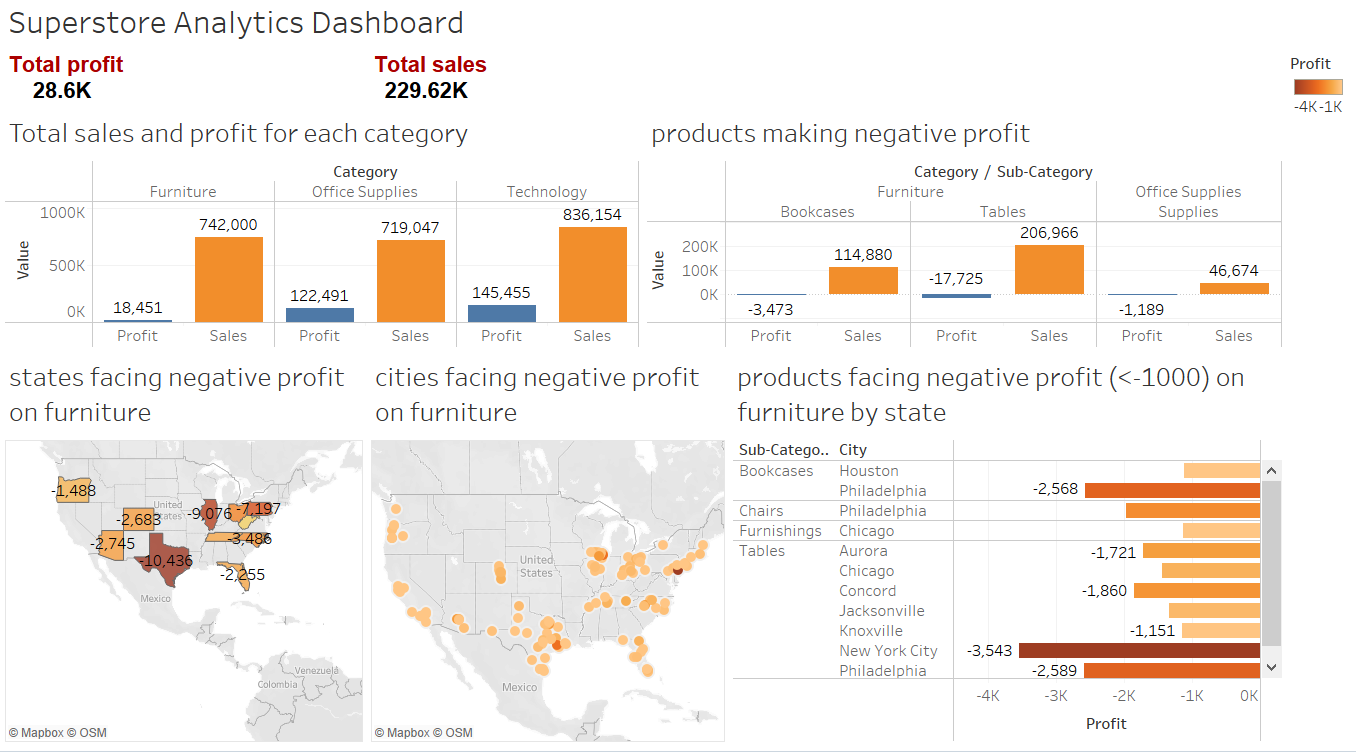

This screenshot's page, from the dashboard's own definition file:
{"tool":"tableau","page":{"name":"Dashboard 1","canvas":[1366,768],"ordinal":0},"visuals":[{"type":"title","box":[8,8,1350,93]},{"type":"worksheet","title":"Sheet 3","mark":"Automatic","cols":["Category"],"box":[8,101,625.9,252.2]},{"type":"worksheet","title":"Sheet 1","mark":"Automatic","cols":["Category","Sub-Category"],"box":[633.9,101,626.1,252.2]},{"type":"legend","title":"Sheet 4","param":"[federated.1bygqig1dd3u1x144j3fn0m7qe34].[sum:Profit:qk]","box":[1260,101,98,73]},{"type":"filter","title":"Sheet 6","param":"[federated.1bygqig1dd3u1x144j3fn0m7qe34].[none:City:nk]","box":[1260,174,98,61]},{"type":"worksheet","title":"Sheet 5","mark":"Multipolygon","box":[8,353.2,356.5,406.8]},{"type":"worksheet","title":"Sheet 6","mark":"Automatic","box":[364.5,353.2,388.7,406.8]},{"type":"worksheet","title":"Sheet 4","mark":"Automatic","rows":["Sub-Category","City"],"cols":["Profit"],"box":[753.3,353.2,506.7,406.8]}]}

Visuals, with their boxes in screenshot pixels (x1, y1, x2, y2), scaled from the page's 1366x768 canvas onto the 1356x752 screenshot:
title: x1=8 y1=8 x2=1348 y2=99
"Sheet 3" worksheet: x1=8 y1=99 x2=629 y2=346
"Sheet 1" worksheet: x1=629 y1=99 x2=1251 y2=346
"Sheet 4" legend: x1=1251 y1=99 x2=1348 y2=170
"Sheet 6" filter: x1=1251 y1=170 x2=1348 y2=230
"Sheet 5" worksheet (Multipolygon marks): x1=8 y1=346 x2=362 y2=744
"Sheet 6" worksheet: x1=362 y1=346 x2=748 y2=744
"Sheet 4" worksheet: x1=748 y1=346 x2=1251 y2=744
